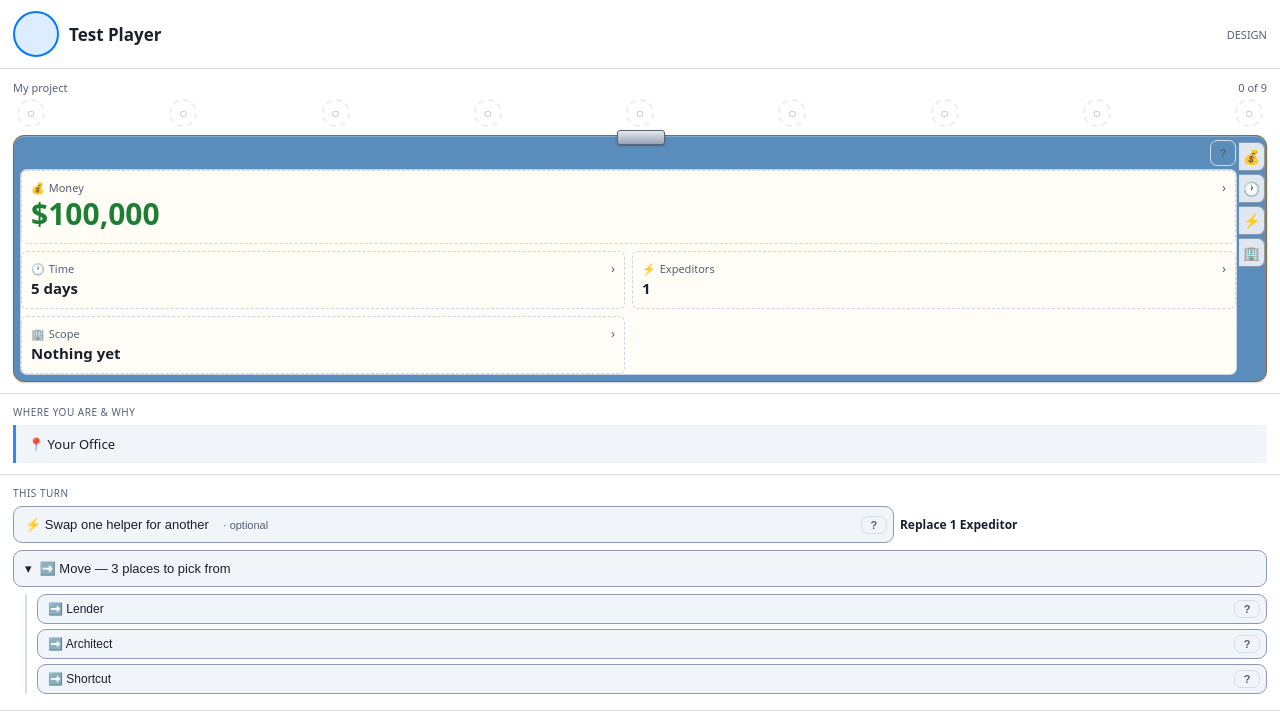
it: PlayerPanelV2 — commit spine names the gate that is actually open (2026-09-07 playtest) › exposes the whole drive path as stable test hooks, not as prose
Expected: the button with test id "action-button" is shown, x1=14 y1=507 x2=857 y2=542
Expected: the button with test id "move-option" showing "➡️ Lender" is enabled, x1=38 y1=595 x2=1230 y2=623
// The opener still works in both directions: fold it, then open it again.
Click the button with test id "move-expander" at (135, 568), box x1=13 y1=550 x2=1267 y2=587
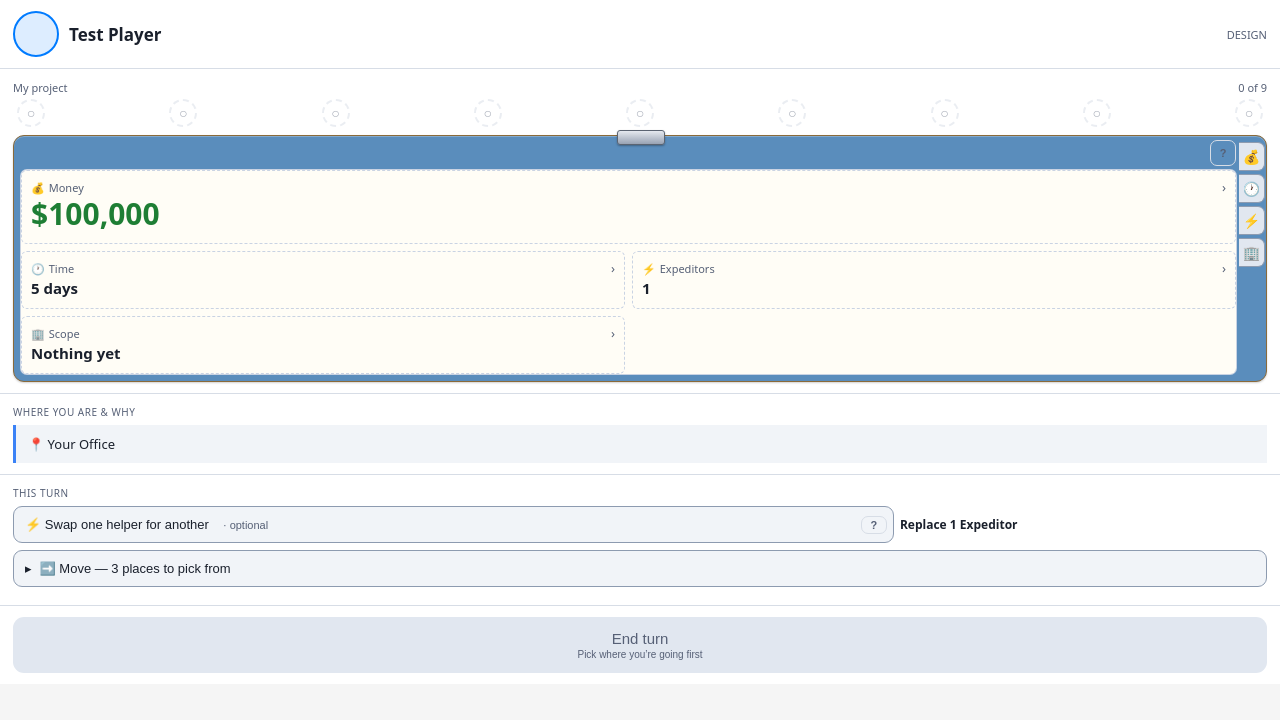
Expected: the button with test id "move-expander" is collapsed
Expected: no buttons with test id "move-option" are shown
Click the button with test id "move-expander" at (135, 568), box x1=13 y1=550 x2=1267 y2=587
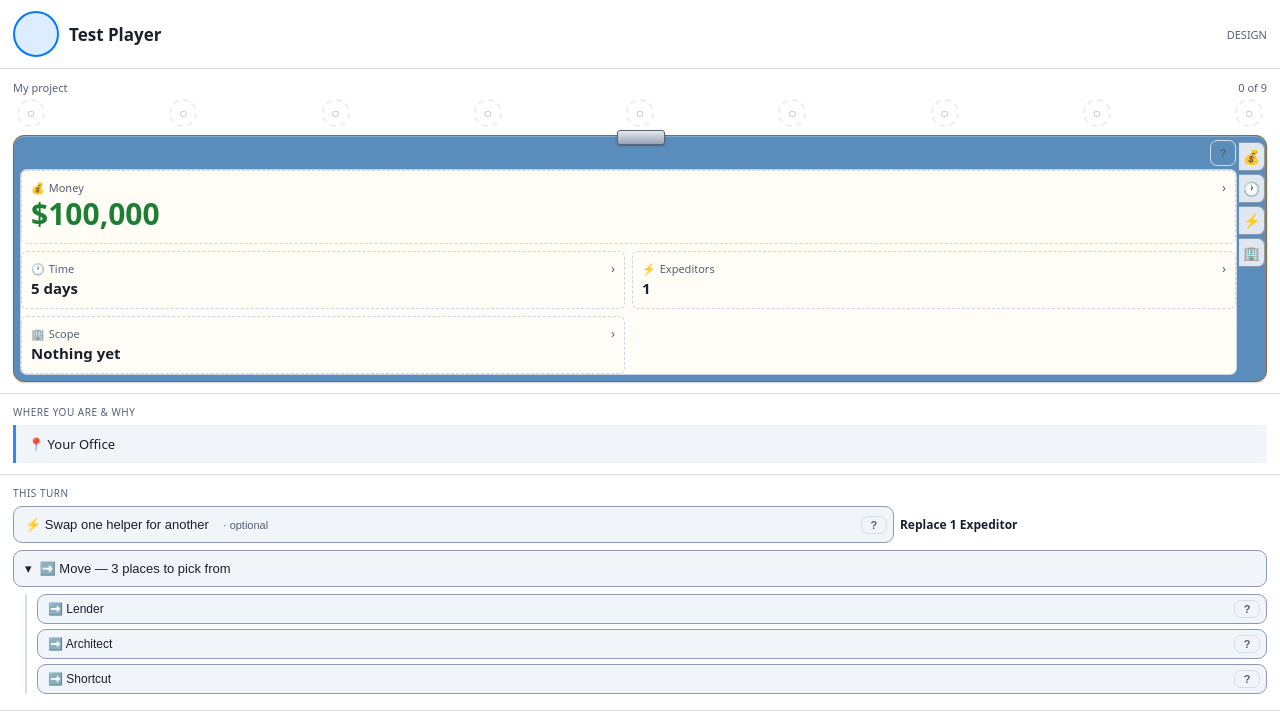
Expected: the button with test id "move-expander" is expanded, x1=13 y1=550 x2=1267 y2=587
Expected: the number of buttons with test id "move-option" is 3, x1=38 y1=595 x2=1230 y2=623; x1=38 y1=630 x2=1230 y2=658; x1=38 y1=665 x2=1230 y2=693
